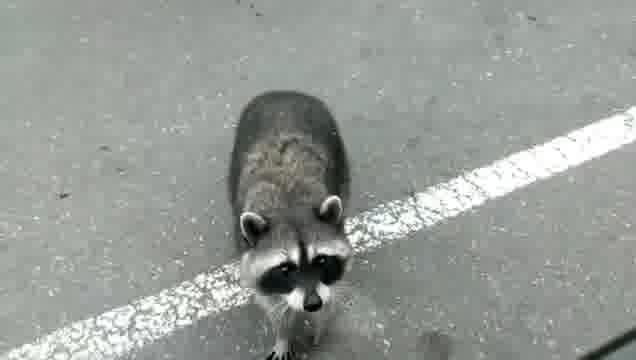raccoon: (228, 91, 354, 360)
